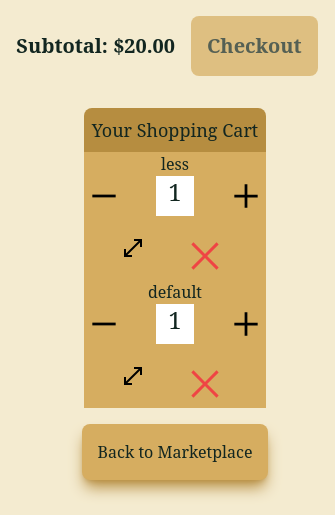
it: Cart increments and decrements itemsAmount and adjusts price accordingly › Item price is subtracted from current total when pressing the decrement button
Expected: the text with test id "totalPrice" reads "$20.00", 113,32 -> 175,59
Click the button named "decrement.less" at coordinates (104, 196), box 84,176 -> 124,216
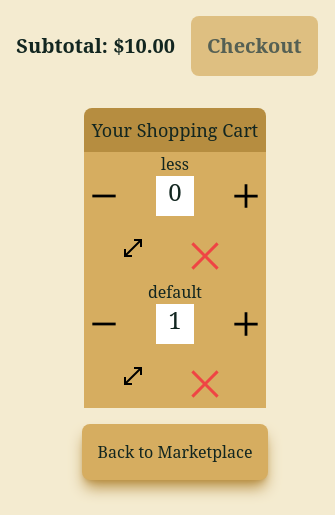
Expected: the text with test id "totalPrice" reads "$10.00", 113,32 -> 175,59
